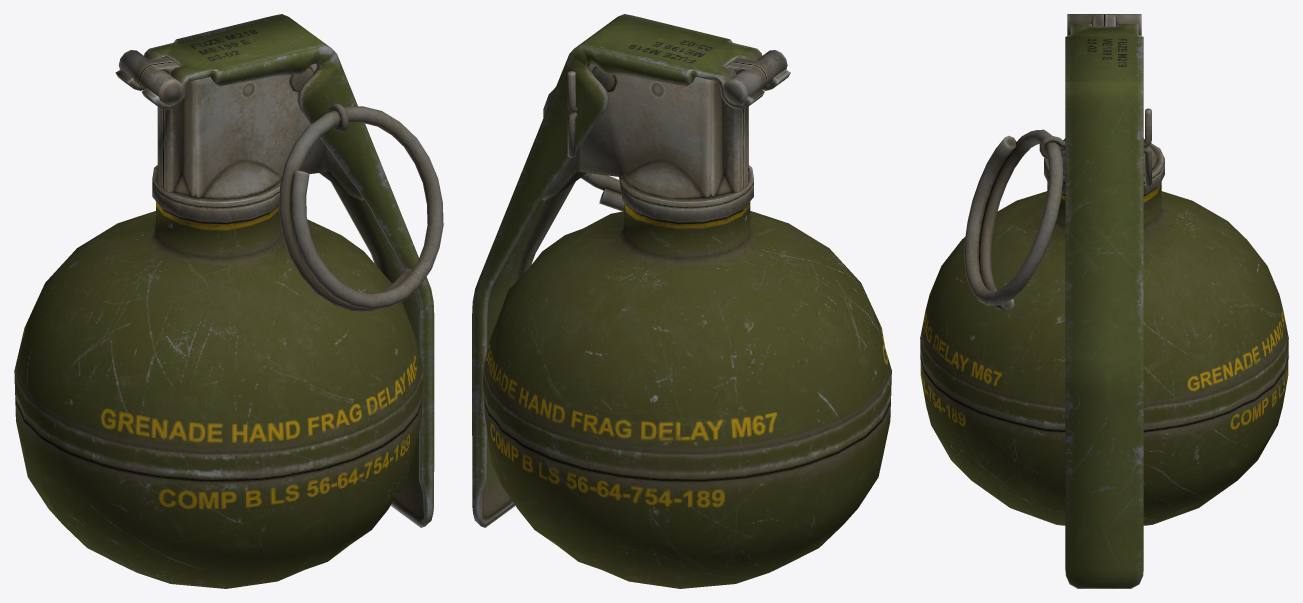
Rendered from grenade_pubg.glb.
3 renders of one model, left to right at view 1: azimuth 30°, elevation 25°; view 2: azimuth 150°, elevation 25°; view 3: azimuth 270°, elevation 25°, orthographic. The views are drawn at different scales.
Visible parts, largest first — view 1: GRENADE; view 2: GRENADE; view 3: GRENADE.
Boxes of the visible parts, bbox=[...] form: GRENADE: bbox=[14, 14, 443, 588]; GRENADE: bbox=[472, 14, 891, 588]; GRENADE: bbox=[920, 14, 1288, 588].
Size of the model in its own units: 6.51 by 8.71 by 6.23.
Materials: 1 (1 with a texture image).
